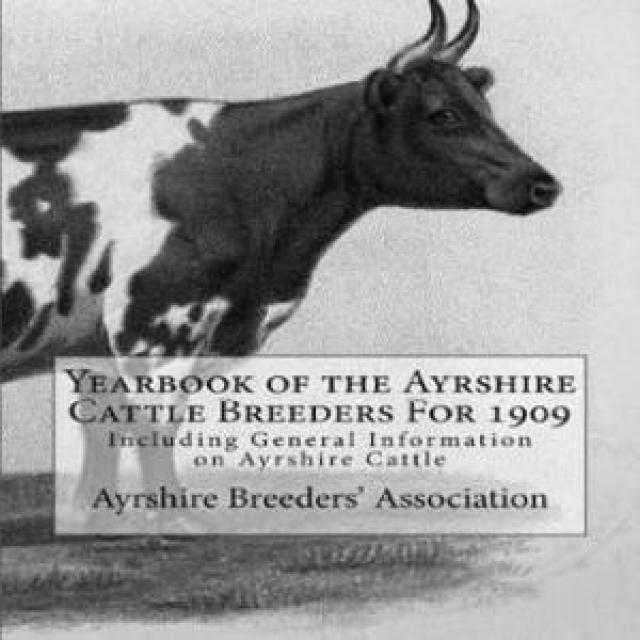cow: (0, 0, 561, 378)
